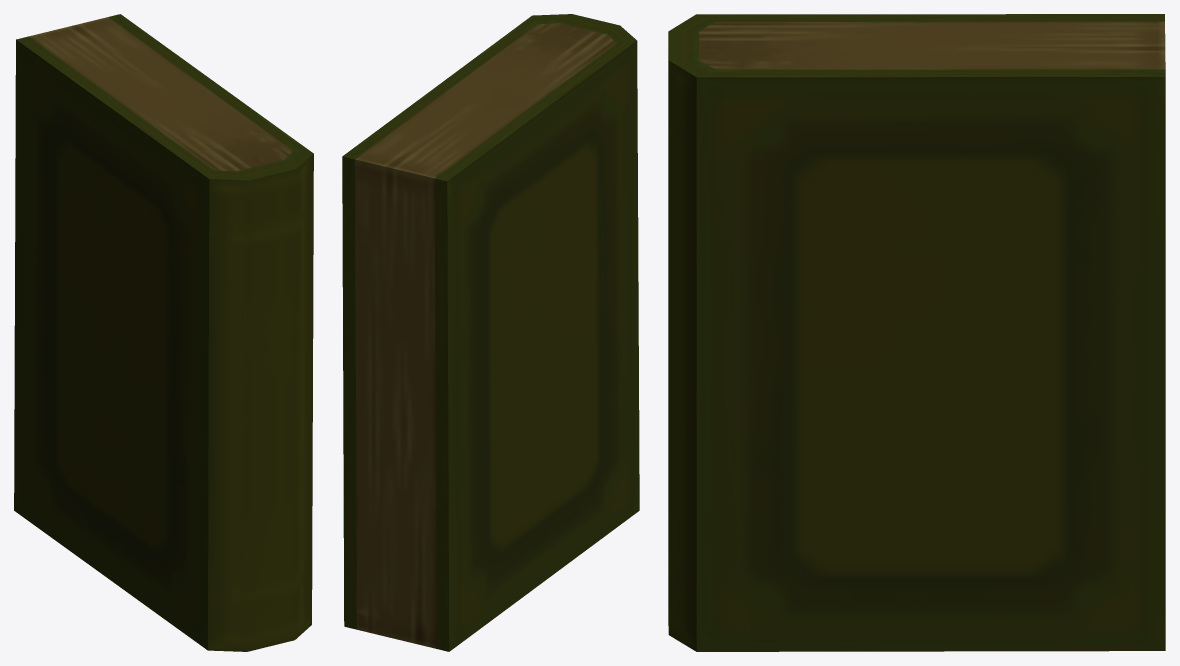
The model's file is book_simplified_single.glb.
3 renders of one model, left to right at view 1: azimuth 30°, elevation 25°; view 2: azimuth 150°, elevation 25°; view 3: azimuth 270°, elevation 25°, orthographic. The views are drawn at different scales.
Parts seen in each view (by area): view 1: Book_Simplified_Single; view 2: Book_Simplified_Single; view 3: Book_Simplified_Single.
Part boxes in pixels (x1,y1,x2,y2): Book_Simplified_Single: (14,14,313,651); Book_Simplified_Single: (342,14,639,651); Book_Simplified_Single: (668,14,1165,651).
Bounding box in the file's own units: 0.0646 × 0.2683 × 0.21.
Materials: 1 (1 with a texture image).
